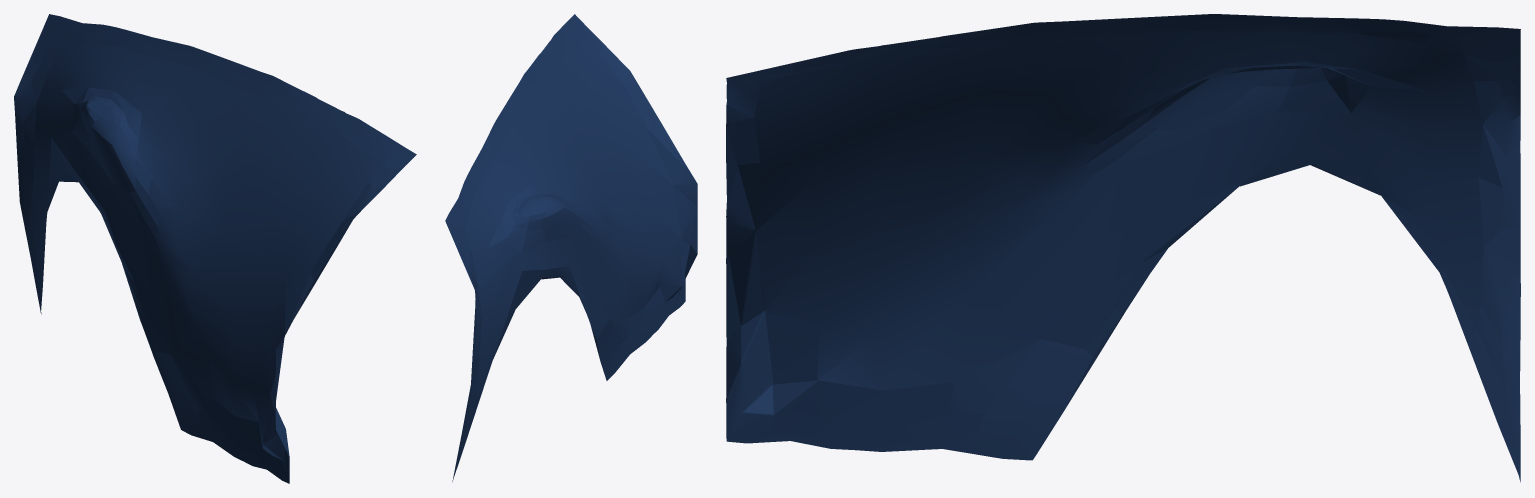
The model's file is GEO_Quarter_Rear_Right.glb.
3 renders of one model, left to right at view 1: azimuth 30°, elevation 25°; view 2: azimuth 150°, elevation 25°; view 3: azimuth 270°, elevation 25°, orthographic. The views are drawn at different scales.
Parts seen in each view (by area): view 1: GEO_Quarter_Rear_Right; view 2: GEO_Quarter_Rear_Right; view 3: GEO_Quarter_Rear_Right.
Boxes of the visible parts, bbox=[...] form: GEO_Quarter_Rear_Right: bbox=[14, 14, 416, 483]; GEO_Quarter_Rear_Right: bbox=[445, 14, 697, 482]; GEO_Quarter_Rear_Right: bbox=[726, 14, 1520, 482].
Size of the model in its own units: 0.3894 by 0.819 by 1.14.
